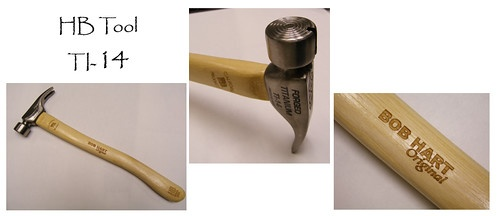hammer: (14, 85, 183, 202), (187, 16, 317, 158)
